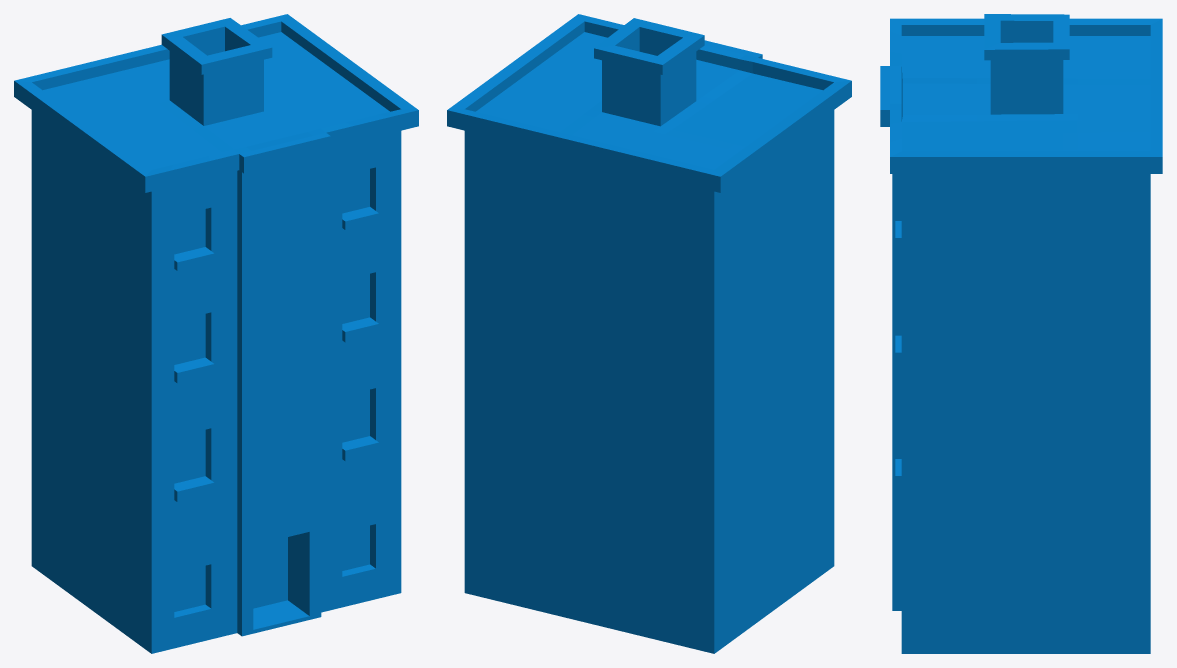
File: Bina.fbx
3 views of the same model, side by side, from view 1: azimuth 30°, elevation 25°; view 2: azimuth 150°, elevation 25°; view 3: azimuth 270°, elevation 25° (orthographic). The views are drawn at different scales.
Visible parts, largest first — view 1: Cube; view 2: Cube; view 3: Cube.
Part boxes in pixels (left/top/right/bottom): Cube: left=14, top=14, right=418, bottom=653; Cube: left=447, top=14, right=851, bottom=653; Cube: left=880, top=14, right=1162, bottom=653.
Size of the model in its own units: 1397 by 2628 by 1203.
